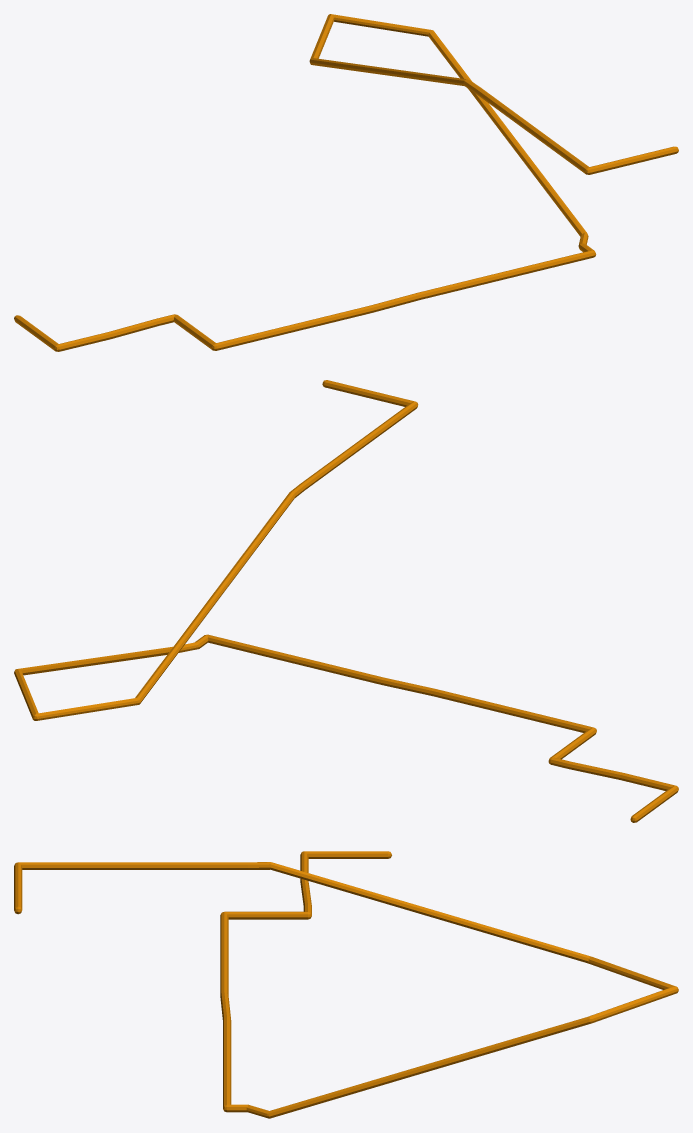
3 renders of one model, top to bottom at view 1: azimuth 30°, elevation 25°; view 2: azimuth 150°, elevation 25°; view 3: azimuth 270°, elevation 25°, orthographic. The views are drawn at different scales.
Bounding box in the file's own units: 1492 × 520 × 1592.
